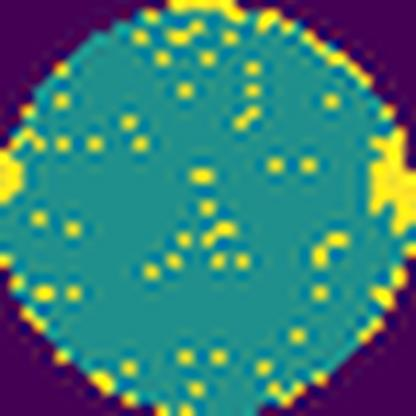Edge-Loc: (369, 132, 416, 237), (0, 144, 30, 211), (171, 0, 247, 24)
